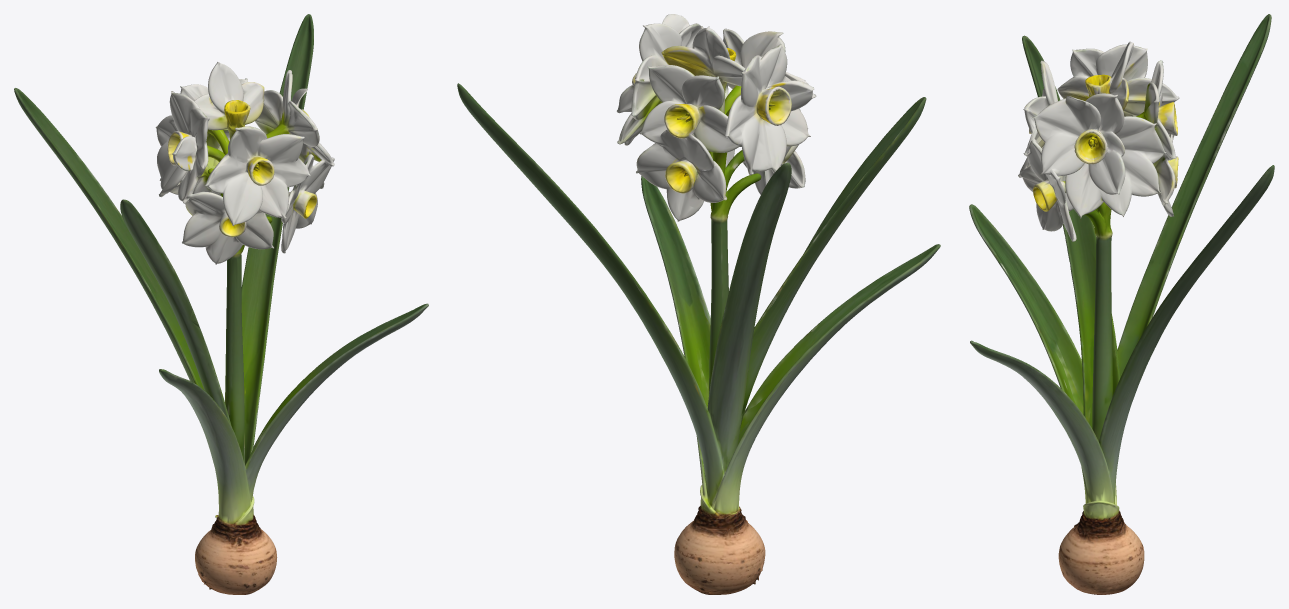
File: shuixian.glb
The picture shows the model from 3 angles, left to right: view 1: azimuth 30°, elevation 25°; view 2: azimuth 150°, elevation 25°; view 3: azimuth 270°, elevation 25°; orthographic projection. The views are drawn at different scales.
Parts seen in each view (by area): view 1: node_0; view 2: node_0; view 3: node_0.
Boxes of the visible parts, bbox=[...] form: node_0: bbox=[14, 14, 428, 594]; node_0: bbox=[457, 14, 940, 594]; node_0: bbox=[969, 14, 1274, 594].
Size of the model in its own units: 0.6412 by 1.04 by 0.5262.
1 material, 1 textured.
